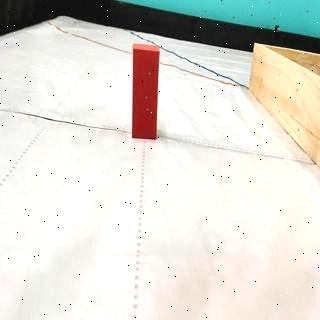redbox: (130, 42, 162, 141)
